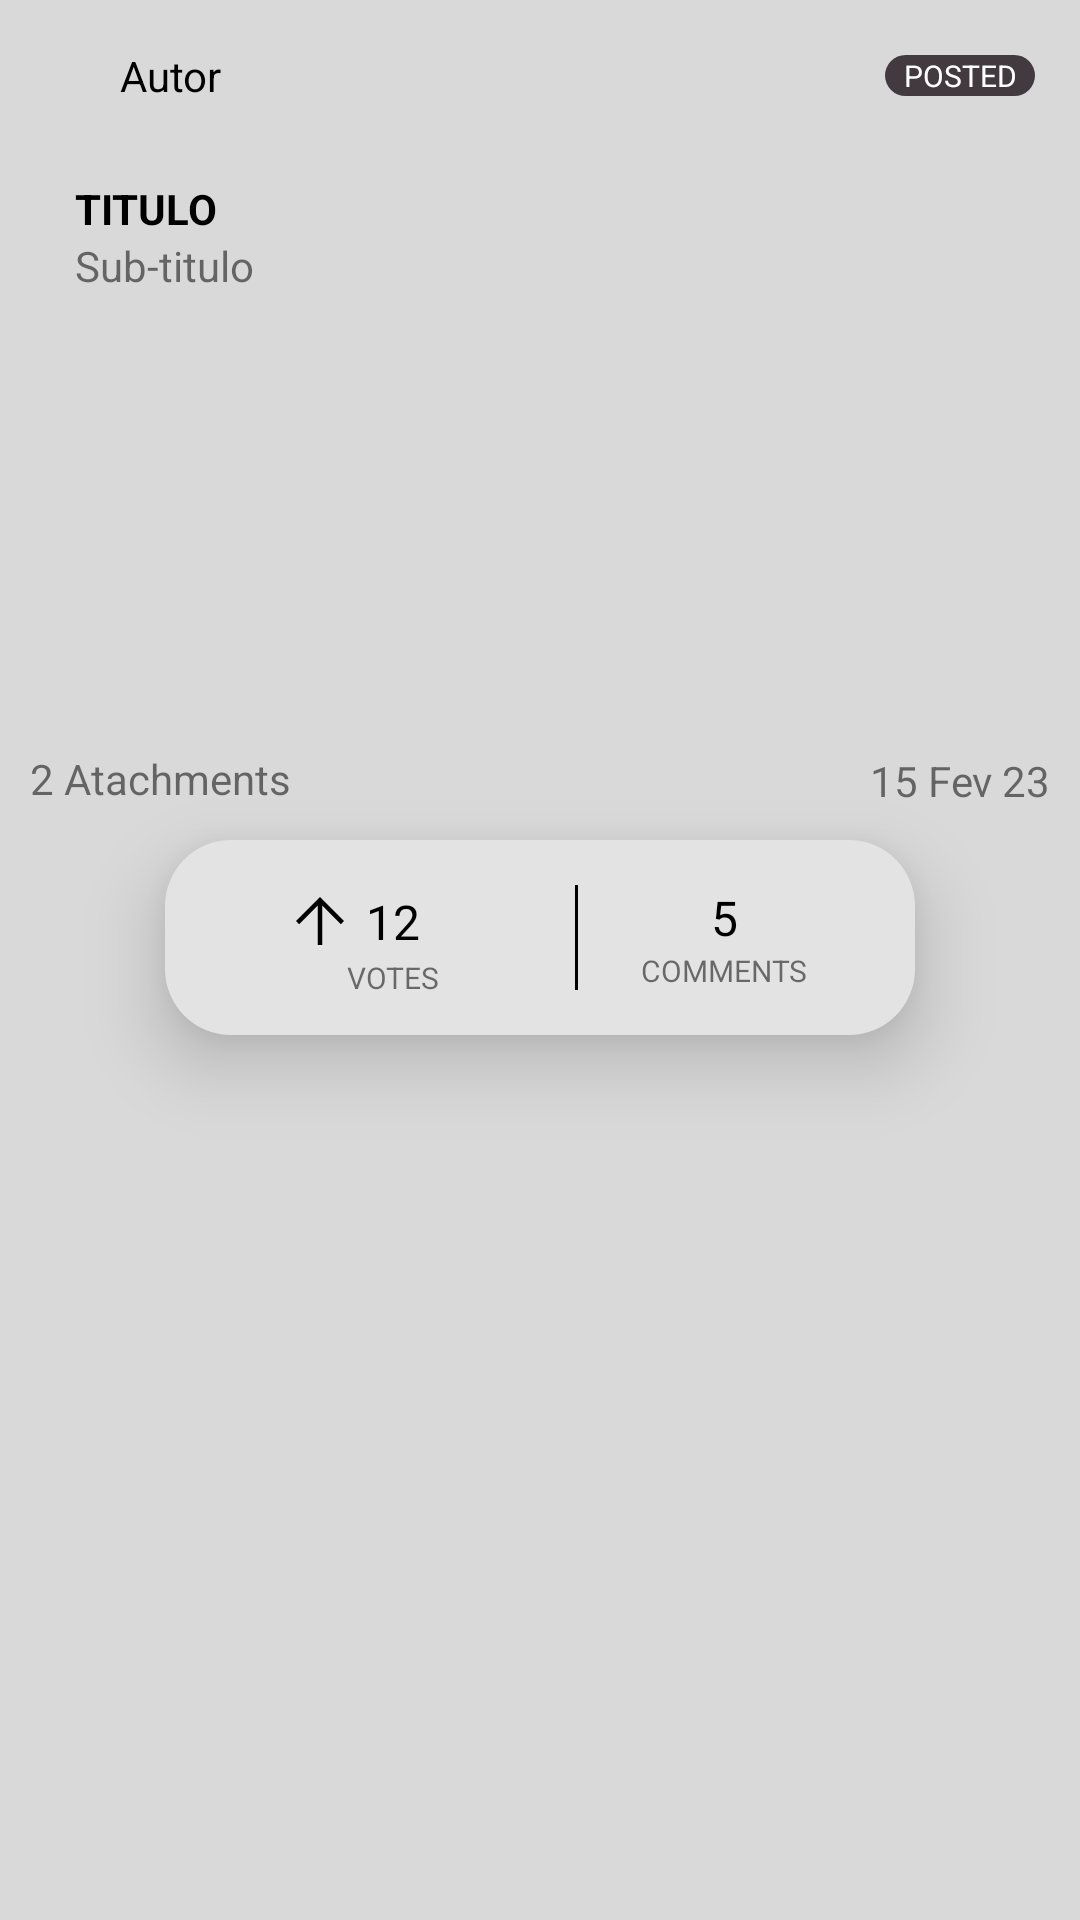

Icon click points for this 1080 x 1920 phone screenshot, format (x=x, y=y):
arrow up: (x=320, y=921)
